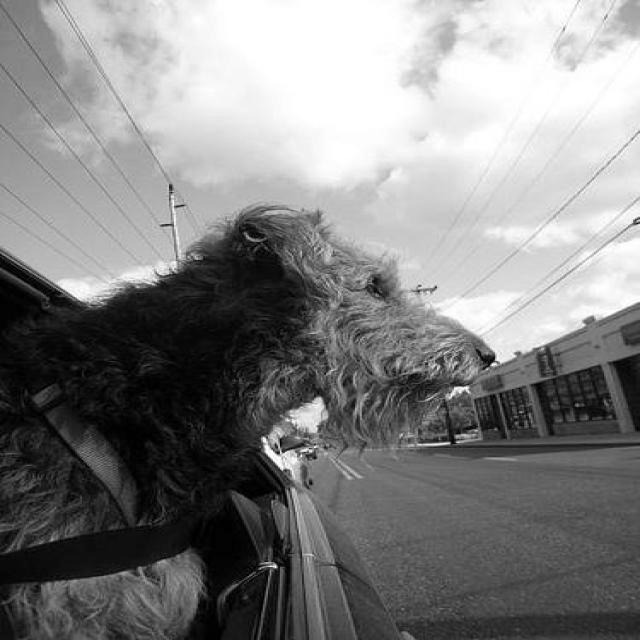vehicle: (4, 249, 395, 633)
